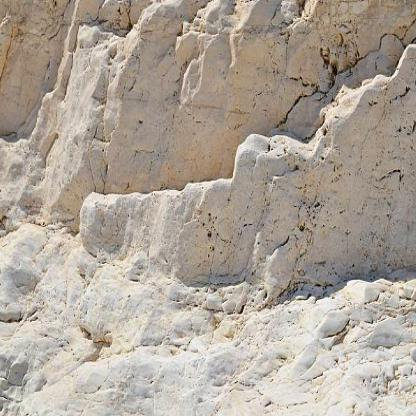Sedimentary_Limestone: (78, 251, 184, 358), (314, 148, 399, 260), (156, 52, 237, 155)
